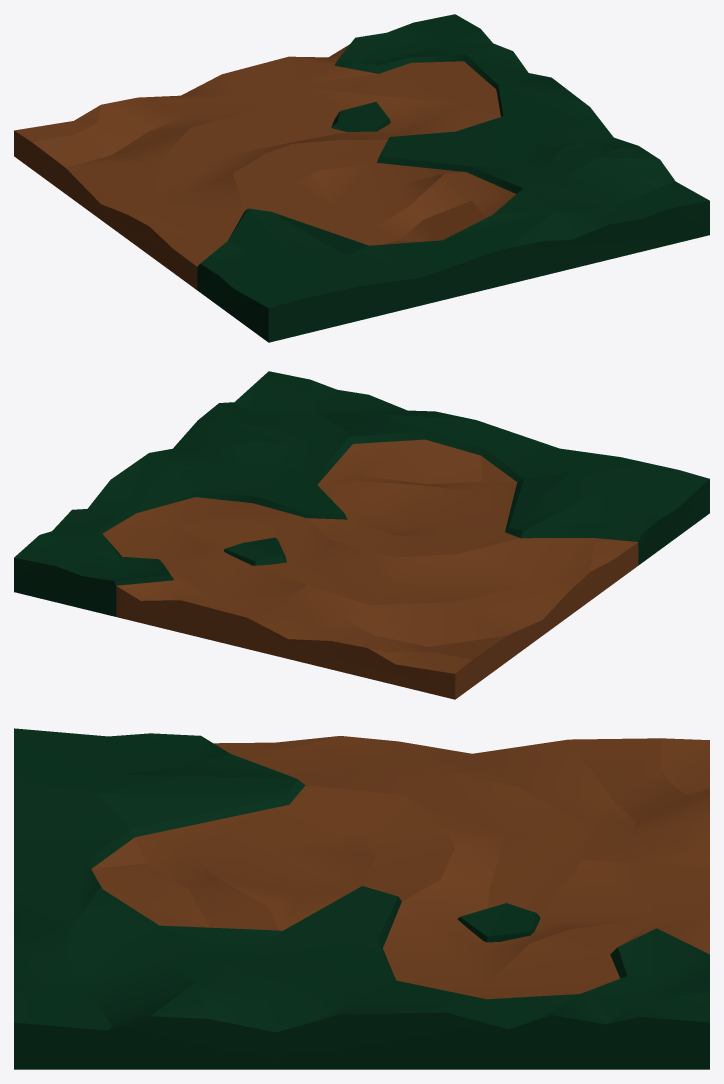
Rendered from Ground_Corner_Internal_RB_1.fbx.
3 renders of one model, top to bottom at view 1: azimuth 30°, elevation 25°; view 2: azimuth 150°, elevation 25°; view 3: azimuth 270°, elevation 25°, orthographic. The views are drawn at different scales.
Parts seen in each view (by area): view 1: Ground_Corner_Internal_RB_1; view 2: Ground_Corner_Internal_RB_1; view 3: Ground_Corner_Internal_RB_1.
Part boxes in pixels (x1,y1,x2,y2): Ground_Corner_Internal_RB_1: [14, 14, 709, 342]; Ground_Corner_Internal_RB_1: [14, 371, 709, 699]; Ground_Corner_Internal_RB_1: [14, 728, 709, 1069].
Size of the model in its own units: 147 by 13.54 by 147.
